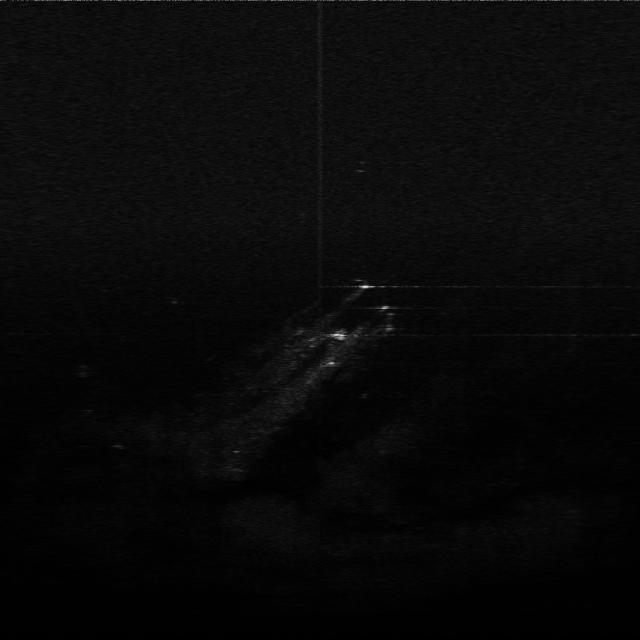rov: (324, 328, 354, 345)
